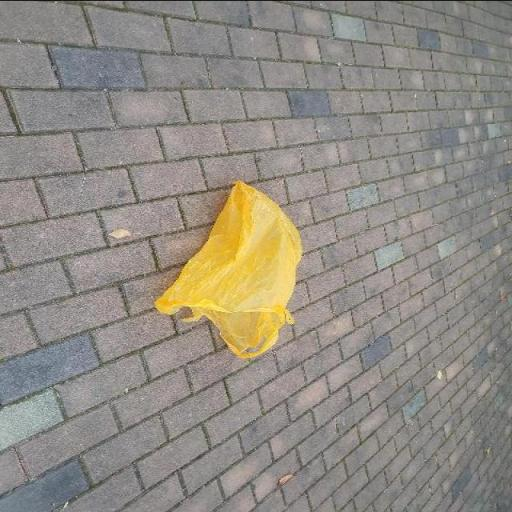plastic-bag: (152, 176, 306, 359)
